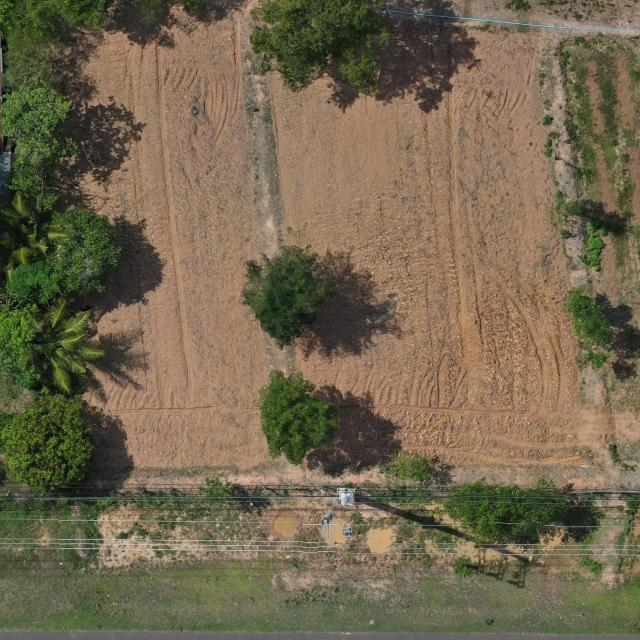Tree: (0, 190, 121, 304), (249, 0, 393, 94), (0, 297, 106, 396), (240, 244, 330, 352), (443, 474, 569, 549), (0, 394, 96, 492), (258, 368, 339, 466), (0, 85, 72, 189), (560, 286, 614, 371), (382, 449, 436, 486)
